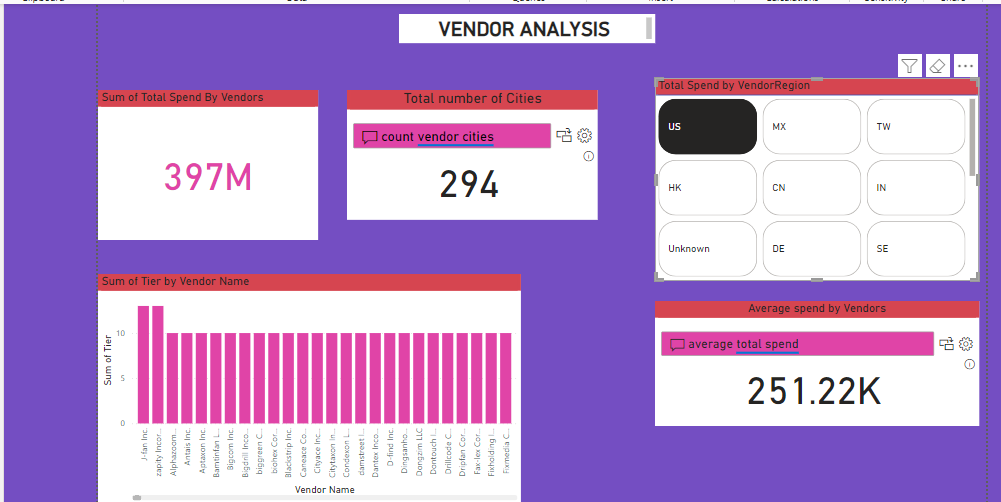

The dashboard page shown, as its layout file describes it:
{"tool":"powerbi","page":{"name":"Vendor Analysis","canvas":[1280,720],"ordinal":0},"visuals":[{"type":"card","title":"Sum of Total Spend By Vendors","fields":{"Values":["Sum(Sheet1.Total Spend)"]},"box":[0,123.8,316.8,216],"z":0},{"type":"columnChart","fields":{"Y":["Sum(Sheet1.Tier)"],"Category":["Sheet1.Vendor Name"]},"box":[0,388.8,609.1,331.2],"z":1000},{"type":"advancedSlicerVisual","title":"Total Spend by VendorRegion","fields":{"Values":["Sheet1.Vendor Country/Region"]},"box":[802.1,106.6,466.6,292.3],"z":2000},{"type":"textbox","box":[433.4,14.4,368.6,41.8],"z":3000},{"type":"qnaVisual","title":"Average spend by Vendors","box":[802.1,427.7,466.6,180],"z":4000},{"type":"qnaVisual","title":"Total number of Cities","box":[358.6,123.8,361.4,187.2],"z":4001}]}

Visuals, with their boxes on the page's 1280x720 design canvas (x1, y1, x2, y2). These are canvas units, not pixel positions in the 1001x502 screenshot, which may show the page scaled, cropped or inside an application window:
"Sum of Total Spend By Vendors" card: box(0, 124, 317, 340)
columnChart - Sum(Sheet1.Tier) x Sheet1.Vendor Name: box(0, 389, 609, 720)
"Total Spend by VendorRegion" advancedSlicerVisual: box(802, 107, 1269, 399)
textbox: box(433, 14, 802, 56)
"Average spend by Vendors" qnaVisual: box(802, 428, 1269, 608)
"Total number of Cities" qnaVisual: box(359, 124, 720, 311)
